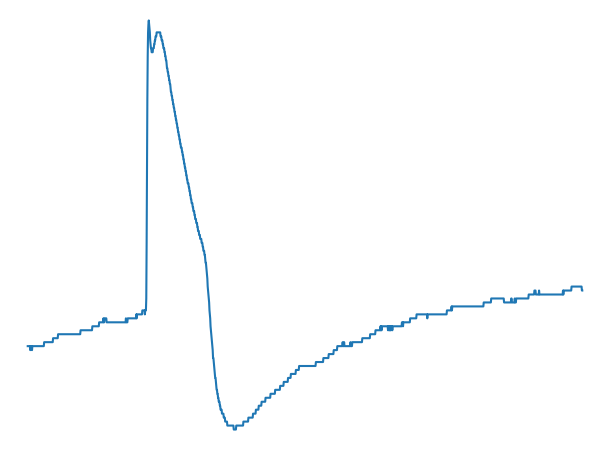increase: (125, 296, 154, 325)
